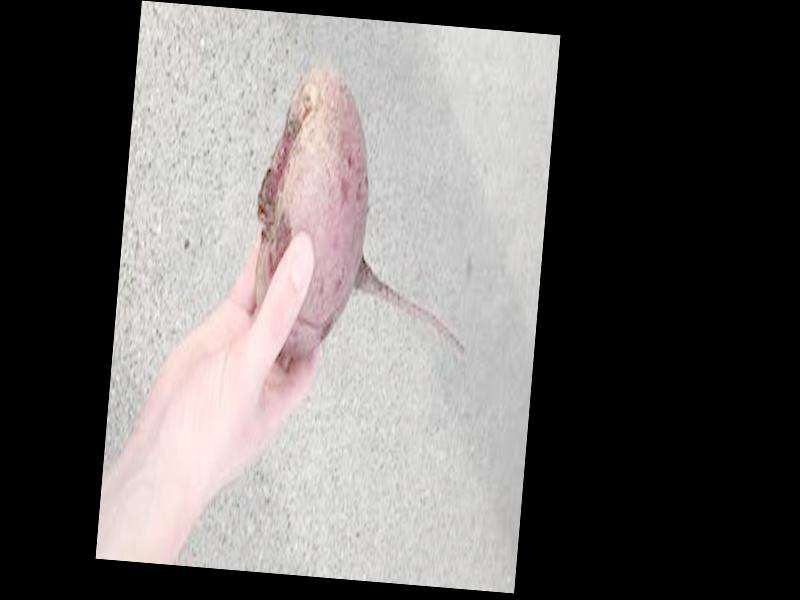Beet: (246, 64, 485, 364)
